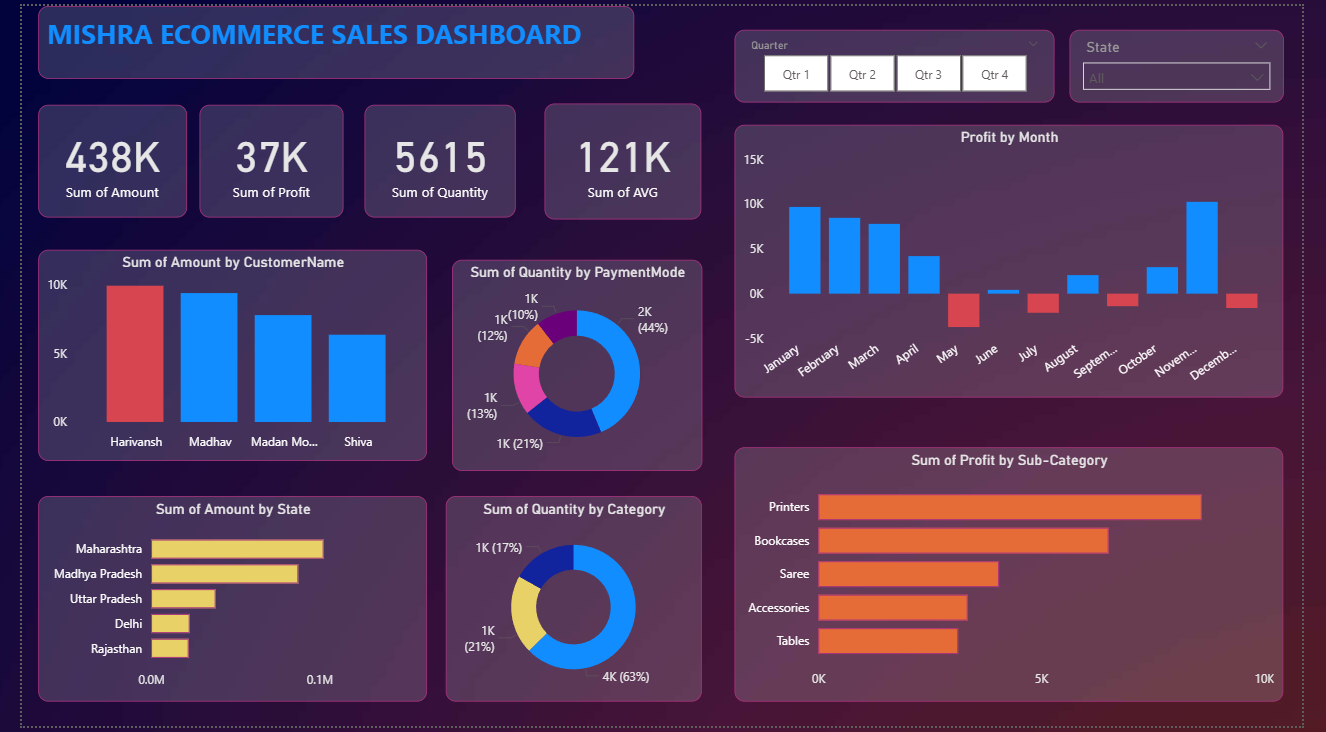

The page's visual inventory and layout, read from the dashboard file:
{"tool":"powerbi","page":{"name":"Page 1","canvas":[1280,720],"ordinal":0},"visuals":[{"type":"textbox","box":[15.7,0,595.7,72.9],"z":0},{"type":"columnChart","title":"Profit by Month","fields":{"Y":["Sum(Details.Profit)"],"Category":["Orders.Order Date.Variation.Date Hierarchy.Month"]},"box":[712.9,118.6,548.6,272.9],"z":1000},{"type":"barChart","fields":{"Category":["Details.Sub-Category"],"Y":["Sum(Details.Profit)"]},"box":[712.9,441.4,548.6,254.3],"z":2000},{"type":"donutChart","fields":{"Category":["Details.Category","Orders.State"],"Y":["Sum(Details.Quantity)"]},"box":[424.3,490,255.7,205.7],"z":3000},{"type":"donutChart","fields":{"Category":["Details.PaymentMode"],"Y":["Sum(Details.Quantity)"]},"box":[430,254.3,250,211.4],"z":4000},{"type":"card","fields":{"Values":["Sum(Details.Amount)"]},"box":[15.7,98.6,148.6,112.9],"z":5000},{"type":"card","fields":{"Values":["Sum(Details.Quantity)"]},"box":[342.9,98.6,151.4,112.9],"z":6000},{"type":"card","fields":{"Values":["Sum(Details.Profit)"]},"box":[177.1,98.6,144.3,112.9],"z":7000},{"type":"card","fields":{"Values":["Sum(Details.AVG)"]},"box":[522.9,97.1,157.1,115.7],"z":8000},{"type":"barChart","fields":{"Y":["Sum(Details.Amount)"],"Category":["Orders.State"]},"box":[15.7,490,388.6,205.7],"z":9000},{"type":"columnChart","fields":{"Category":["Orders.CustomerName"],"Y":["Sum(Details.Amount)"]},"box":[15.7,244.3,388.6,211.4],"z":10000},{"type":"slicer","fields":{"Values":["Orders.Order Date.Variation.Date Hierarchy.Quarter"]},"box":[712.9,24.3,320,72.9],"z":10001},{"type":"slicer","fields":{"Values":["Orders.State"]},"box":[1047.1,24.3,214.3,72.9],"z":10002}]}

Visuals, with their boxes in screenshot pixels (x1, y1, x2, y2), scaled from the page's 1280x720 canvas onto the 1326x732 screenshot:
textbox: select_region(16, 0, 633, 74)
"Profit by Month" columnChart: select_region(739, 121, 1307, 398)
barChart - Details.Sub-Category x Sum(Details.Profit): select_region(739, 449, 1307, 707)
donutChart - Details.Category x Orders.State: select_region(440, 498, 704, 707)
donutChart - Details.PaymentMode x Sum(Details.Quantity): select_region(445, 259, 704, 473)
card - Sum(Details.Amount): select_region(16, 100, 170, 215)
card - Sum(Details.Quantity): select_region(355, 100, 512, 215)
card - Sum(Details.Profit): select_region(183, 100, 333, 215)
card - Sum(Details.AVG): select_region(542, 99, 704, 216)
barChart - Sum(Details.Amount) x Orders.State: select_region(16, 498, 419, 707)
columnChart - Orders.CustomerName x Sum(Details.Amount): select_region(16, 248, 419, 463)
slicer - Orders.Order Date.Variation.Date Hierarchy.Quarter: select_region(739, 25, 1070, 99)
slicer - Orders.State: select_region(1085, 25, 1307, 99)
